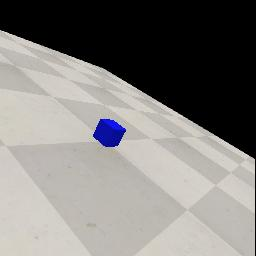box: (93, 119, 126, 147)
